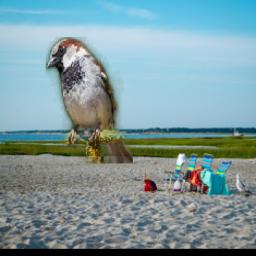Sparrow: (46, 38, 133, 164)
